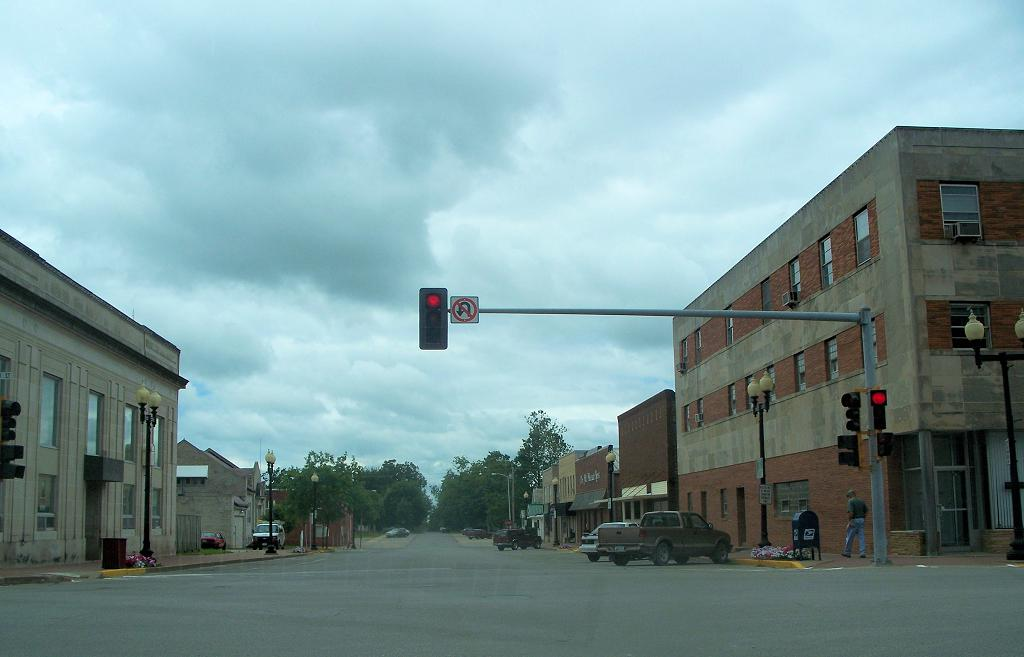no_u_turn: (450, 295, 480, 322)
red_light: (424, 291, 442, 308), (870, 388, 886, 407)
